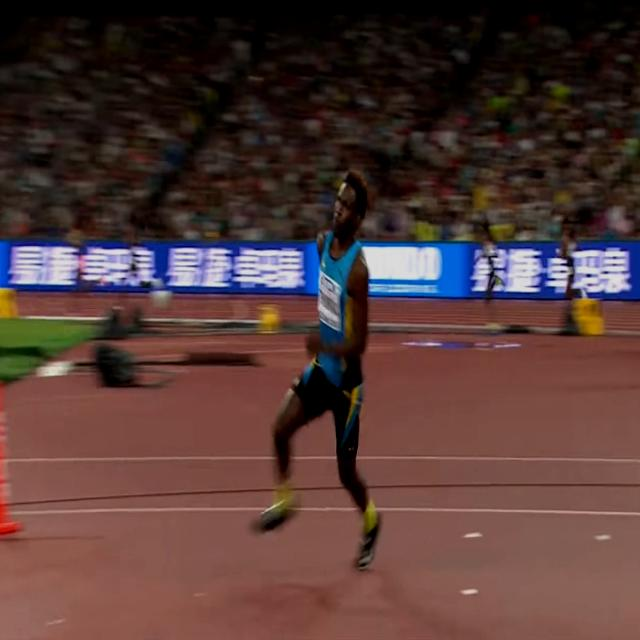run: (250, 172, 380, 569)
